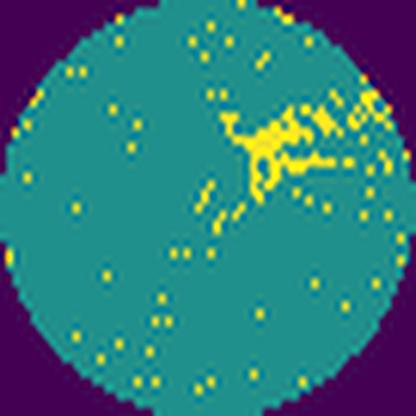Loc: (217, 104, 334, 204)
